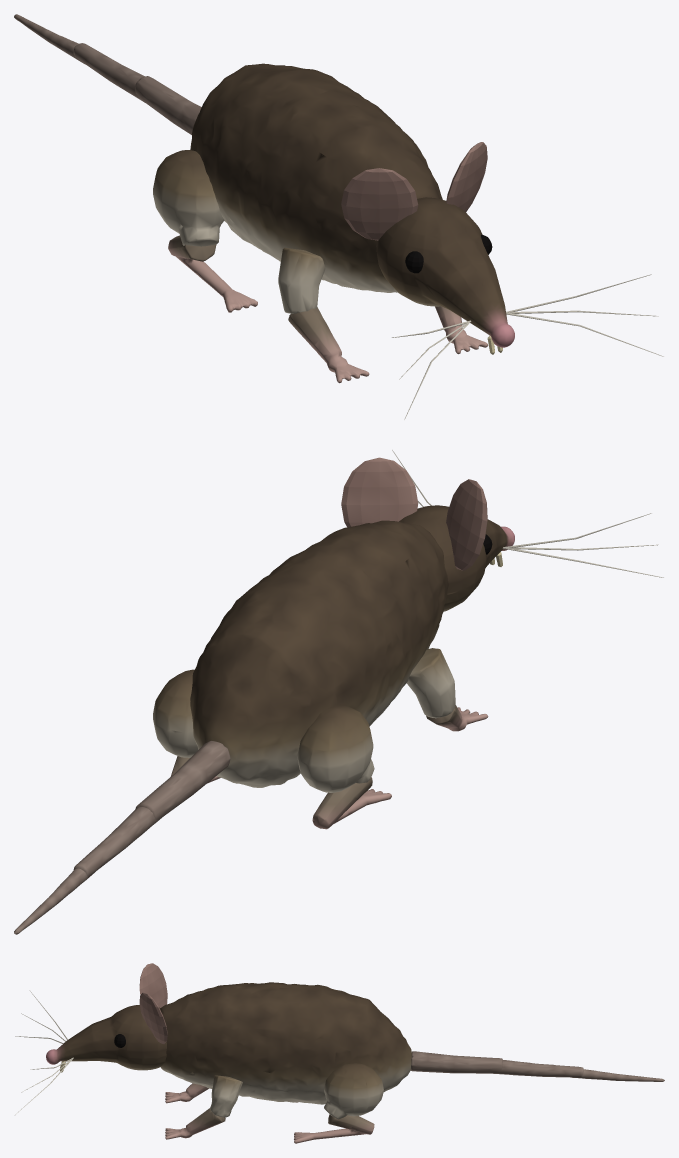
The model's file is island_rat.glb.
3 views of the same model, one above another, from view 1: azimuth 30°, elevation 25°; view 2: azimuth 150°, elevation 25°; view 3: azimuth 270°, elevation 25° (orthographic). The views are drawn at different scales.
Parts seen in each view (by area): view 1: rt_body_mesh, rt_head_mesh, rt_upRN_mesh, rt_earN_mesh, rt_upFN_mesh, rt_loFN_mesh, rt_loRN_mesh, rt_tail0_mesh, rt_earP_mesh, rt_whisker_mesh, rt_tail1_mesh, rt_loFP_mesh (+1 smaller); view 2: rt_body_mesh, rt_upRN_mesh, rt_earP_mesh, rt_head_mesh, rt_tail0_mesh, rt_earN_mesh, rt_upRP_mesh, rt_upFN_mesh, rt_tail1_mesh, rt_loRN_mesh, rt_whisker_mesh, rt_tail2_mesh (+1 smaller); view 3: rt_body_mesh, rt_head_mesh, rt_upRP_mesh, rt_tail0_mesh, rt_loRP_mesh, rt_tail1_mesh, rt_upFP_mesh, rt_earN_mesh, rt_earP_mesh, rt_loFP_mesh, rt_tail2_mesh, rt_loFN_mesh (+1 smaller).
Part boxes in pixels (box(x1,y1,x2,y2)): rt_body_mesh: box(190, 63, 442, 292); rt_head_mesh: box(376, 197, 514, 347); rt_upRN_mesh: box(153, 150, 224, 246); rt_earN_mesh: box(341, 168, 418, 240); rt_upFN_mesh: box(278, 247, 325, 313); rt_loFN_mesh: box(288, 307, 369, 383); rt_loRN_mesh: box(168, 235, 257, 312); rt_tail0_mesh: box(135, 76, 201, 134); rt_earP_mesh: box(446, 142, 487, 211); rt_whisker_mesh: box(392, 274, 663, 419); rt_tail1_mesh: box(73, 43, 144, 102); rt_loFP_mesh: box(435, 306, 488, 354); rt_body_mesh: box(190, 520, 448, 787); rt_upRN_mesh: box(297, 704, 374, 792); rt_earP_mesh: box(341, 457, 418, 527); rt_head_mesh: box(399, 505, 514, 611); rt_tail0_mesh: box(135, 741, 230, 819); rt_earN_mesh: box(446, 479, 487, 570); rt_upRP_mesh: box(153, 669, 198, 757); rt_upFN_mesh: box(406, 648, 455, 718); rt_tail1_mesh: box(73, 807, 161, 876); rt_loRN_mesh: box(312, 777, 391, 829); rt_whisker_mesh: box(392, 450, 663, 577); rt_tail2_mesh: box(14, 868, 95, 934); rt_body_mesh: box(160, 982, 411, 1104); rt_head_mesh: box(46, 1005, 166, 1070); rt_upRP_mesh: box(324, 1063, 383, 1119); rt_tail0_mesh: box(410, 1051, 502, 1073); rt_loRP_mesh: box(294, 1114, 374, 1143); rt_tail1_mesh: box(490, 1060, 583, 1077); rt_upFP_mesh: box(210, 1075, 242, 1117); rt_earN_mesh: box(139, 963, 167, 1007); rt_earP_mesh: box(139, 992, 167, 1043); rt_loFP_mesh: box(165, 1108, 225, 1139); rt_tail2_mesh: box(570, 1069, 664, 1081); rt_loFN_mesh: box(165, 1083, 208, 1103).
Bounding box in the file's own units: 0.1056 × 0.0864 × 0.3639.
